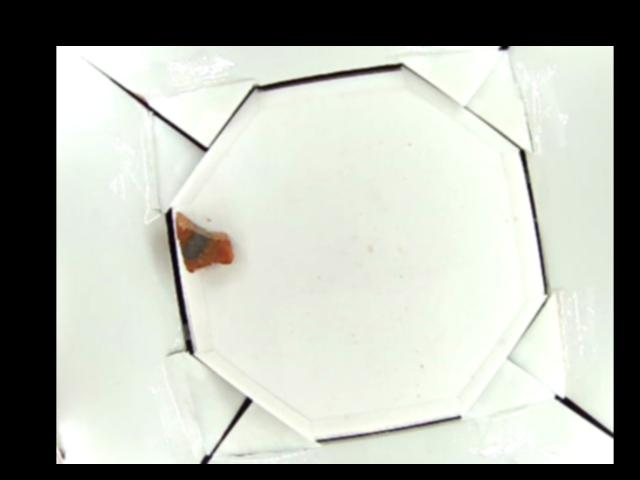Brisk: (174, 211, 234, 272)
